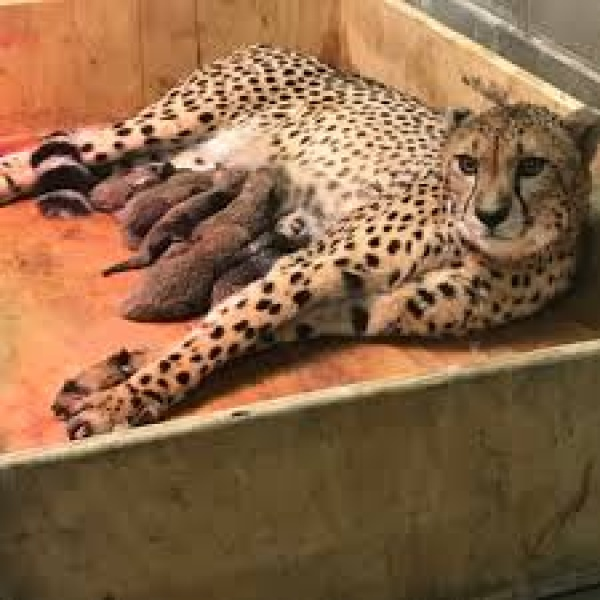Cheetah: (2, 39, 600, 444)
